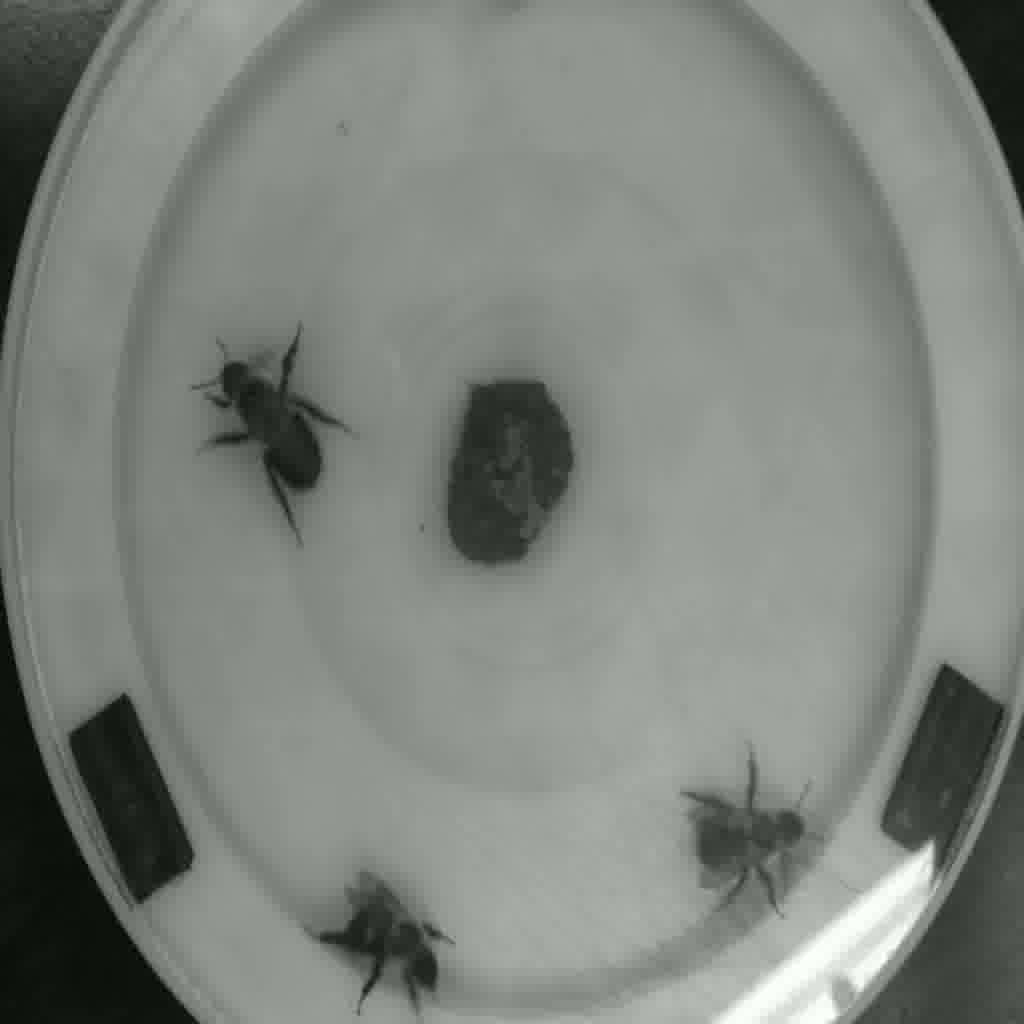bee: (187, 338, 359, 521), (673, 744, 838, 916), (327, 837, 466, 1007)
